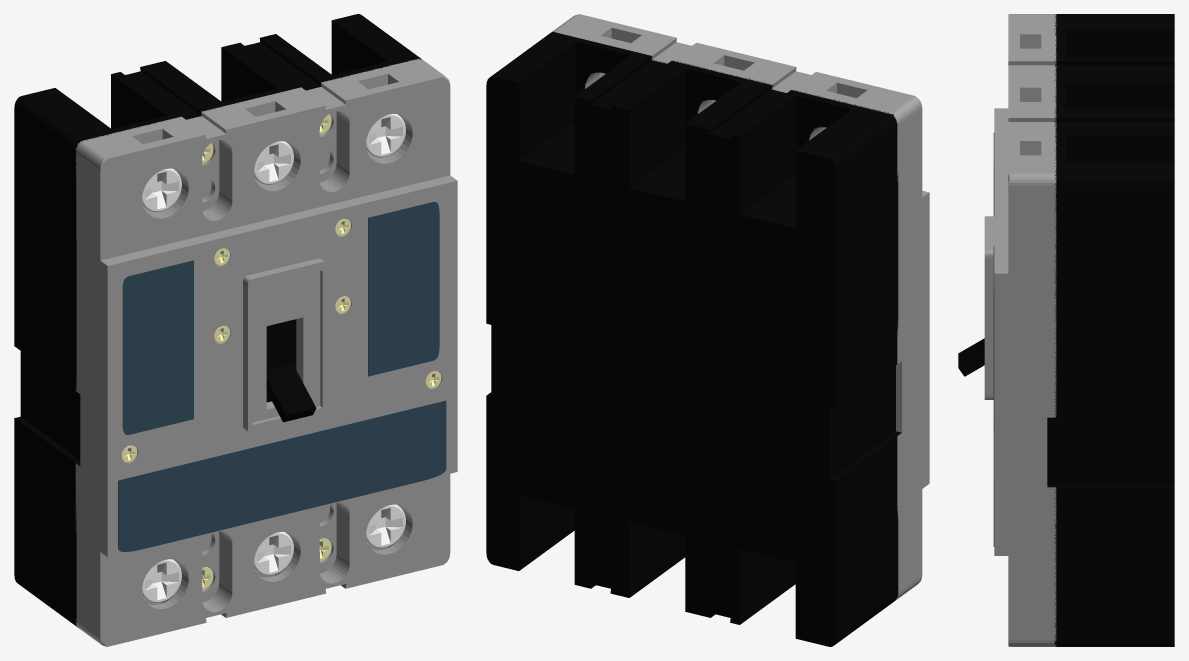
Rendered from 3_phase_circuit_breaker.glb.
3 renders of one model, left to right at view 1: azimuth 30°, elevation 25°; view 2: azimuth 150°, elevation 25°; view 3: azimuth 270°, elevation 25°, orthographic. The views are drawn at different scales.
Parts seen in each view (by area): view 1: CktBreaker.001, CktBreaker.002, Cube.002, Cube, Cube.001, Bolt.005, Bolt.006, Switch; view 2: CktBreaker.002, CktBreaker.001; view 3: CktBreaker.002, CktBreaker.001, Switch, Cube, CktBreaker.
Part boxes in pixels (box(x1,y1,x2,y2)): CktBreaker.001: box(75, 58, 457, 646); CktBreaker.002: box(14, 14, 421, 627); Cube.002: box(118, 400, 446, 551); Cube: box(368, 202, 439, 376); Cube.001: box(122, 260, 193, 434); Bolt.005: box(142, 504, 405, 603); Bolt.006: box(142, 114, 405, 212); Switch: box(266, 319, 316, 421); CktBreaker.002: box(486, 31, 901, 646); CktBreaker.001: box(551, 14, 929, 600); CktBreaker.002: box(1047, 14, 1174, 646); CktBreaker.001: box(984, 14, 1056, 646); Switch: box(958, 338, 984, 376); Cube: box(993, 246, 994, 430); CktBreaker: box(1056, 14, 1056, 645).
Bounding box in the file's own units: 1500 × 2000 × 830.
